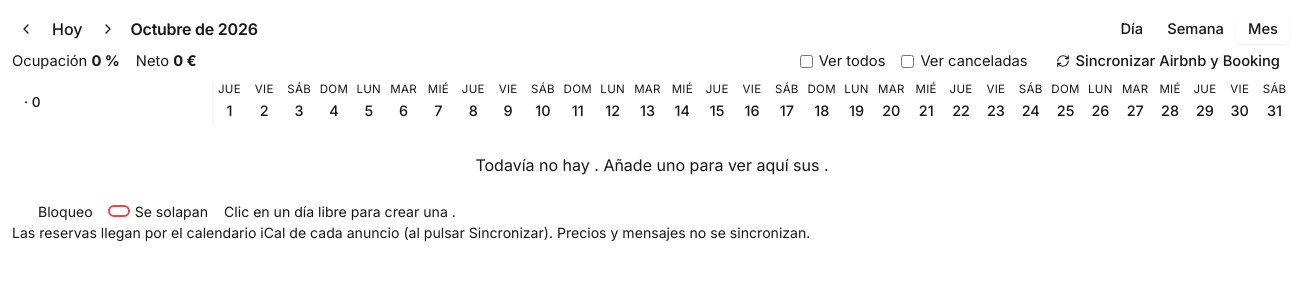
Test case: TimelineView › offers the calendar sync only when there is one, and says what it did
The width and height of the screenshot is (1304, 296).
Expected: the text "Precios y mensajes no se sincronizan" is shown, [12, 224, 810, 241]
Click the button "Sincronizar Airbnb y Booking" at x=1168, y=61, box [1044, 46, 1292, 76]
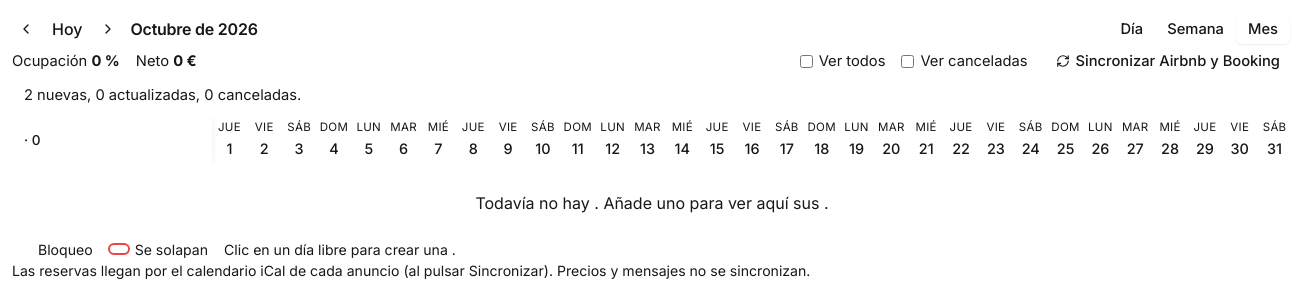
Expected: the message reads "2 nuevas, 0 actualizadas, 0 canceladas.", [24, 86, 301, 104]
